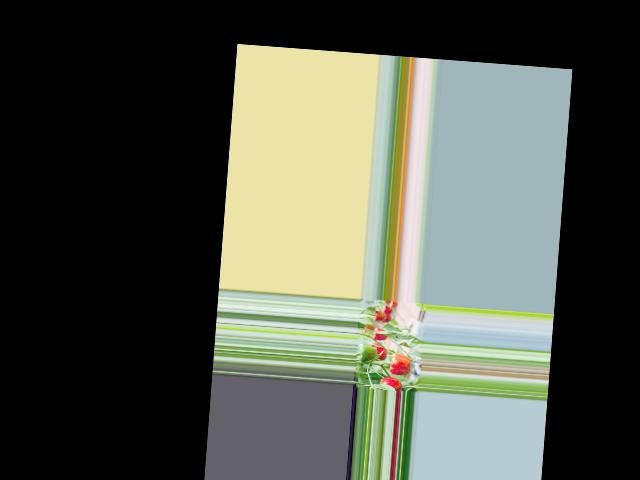bell_pepper: (369, 325, 391, 341)
